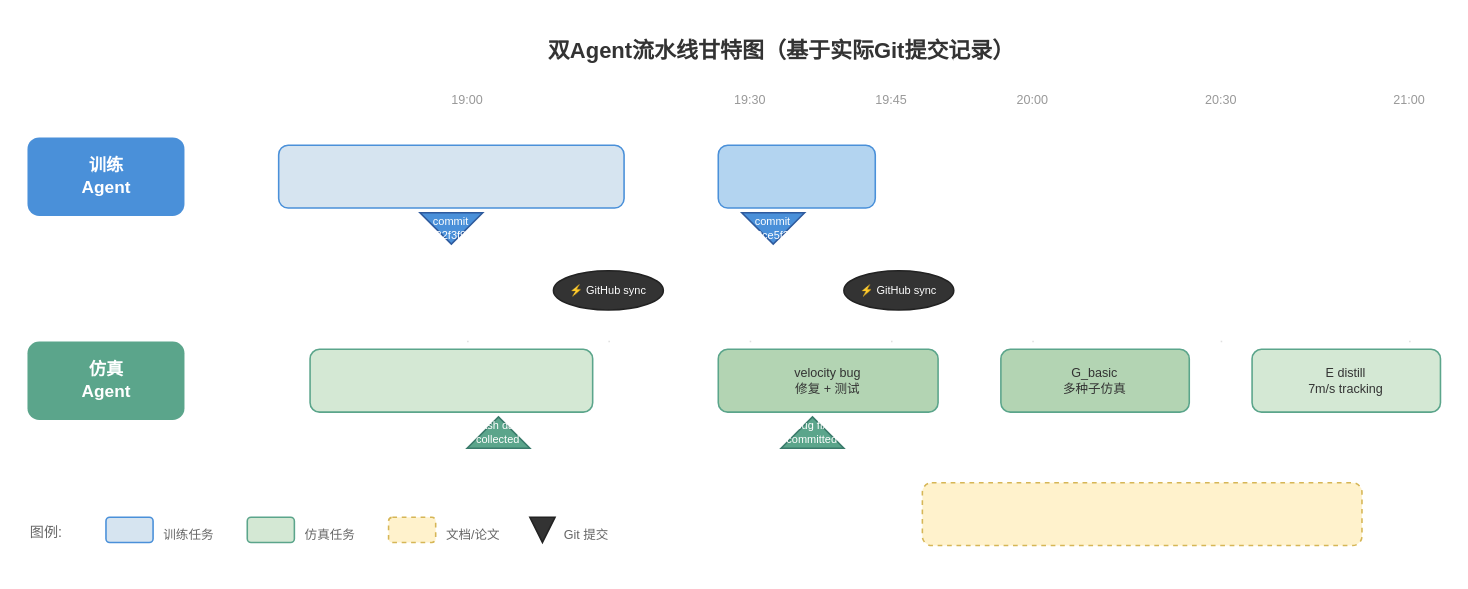
Image size: 1468x589. Some labels were removed from this diagram. Each missing label, with the centre of its shape:
"B+ distill seed 42" goes at point 796,176.
"E distill seeds 43-45 G BC seeds 43-45" goes at point 450,176.
"G_basic/G_lstm 仿真测试" goes at point 451,380.
"论文更新 (同步进行)" goes at point 1141,513.
